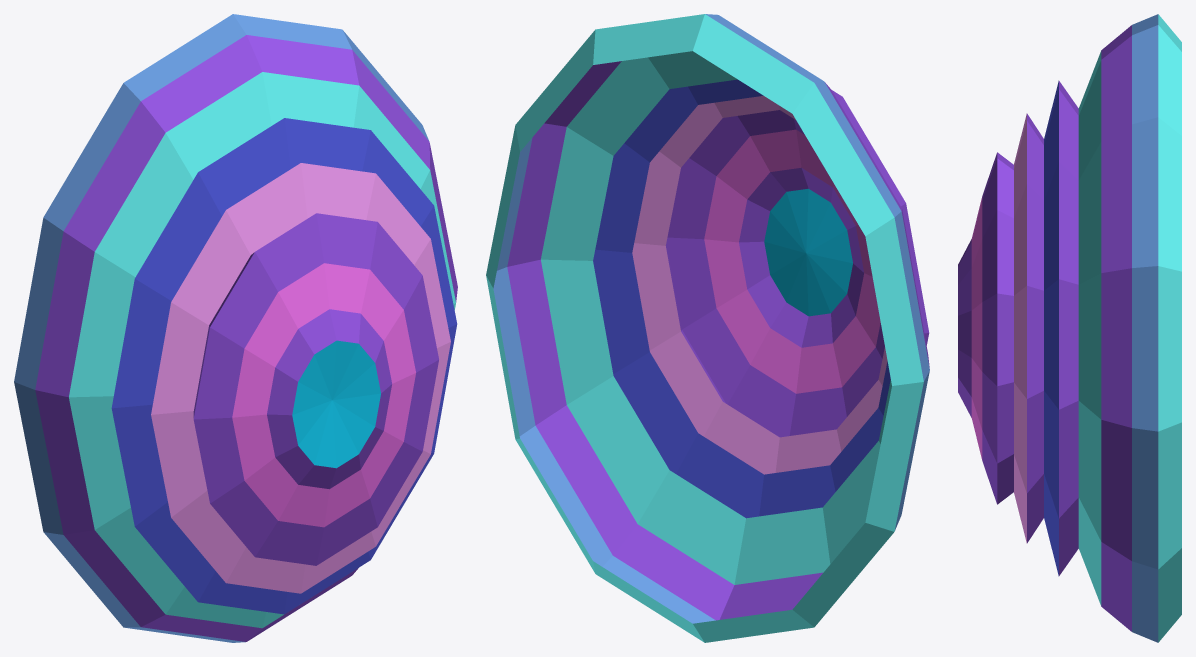
The model's file is PORTAL1.fbx.
3 renders of one model, left to right at view 1: azimuth 30°, elevation 25°; view 2: azimuth 150°, elevation 25°; view 3: azimuth 270°, elevation 25°, orthographic. The views are drawn at different scales.
Visible parts, largest first — view 1: Cone; view 2: Cone; view 3: Cone.
Part boxes in pixels (x1,y1,x2,y2): Cone: (14, 14, 457, 642); Cone: (486, 14, 929, 642); Cone: (958, 14, 1181, 642).
Bounding box in the file's own units: 717 × 985 × 329.
